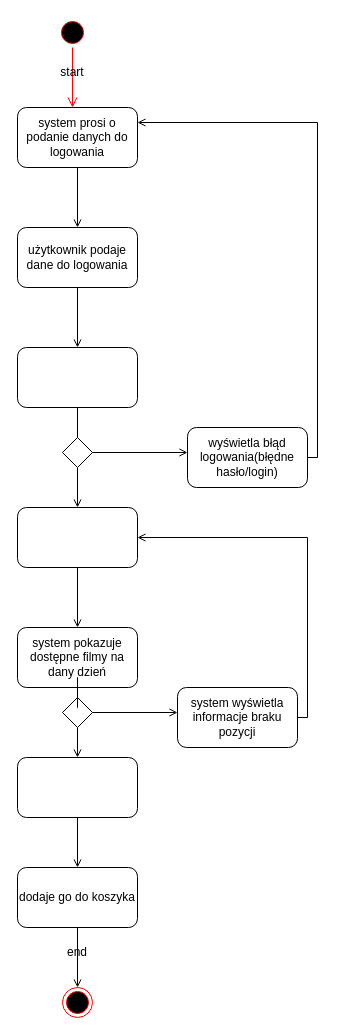
Image size: 343x1035. Some labels were removed from this diagram. Here are the shapes that lost their labels. From the top down, the centre of each, then its label:
(x=77, y=377): system sprawdza czy dane są zgodne z bazą danych
(x=77, y=537): użytkownik wybiera datę i dzień seansu
(x=77, y=787): użytkownik spośród danych filmów wybiera konkretny film
